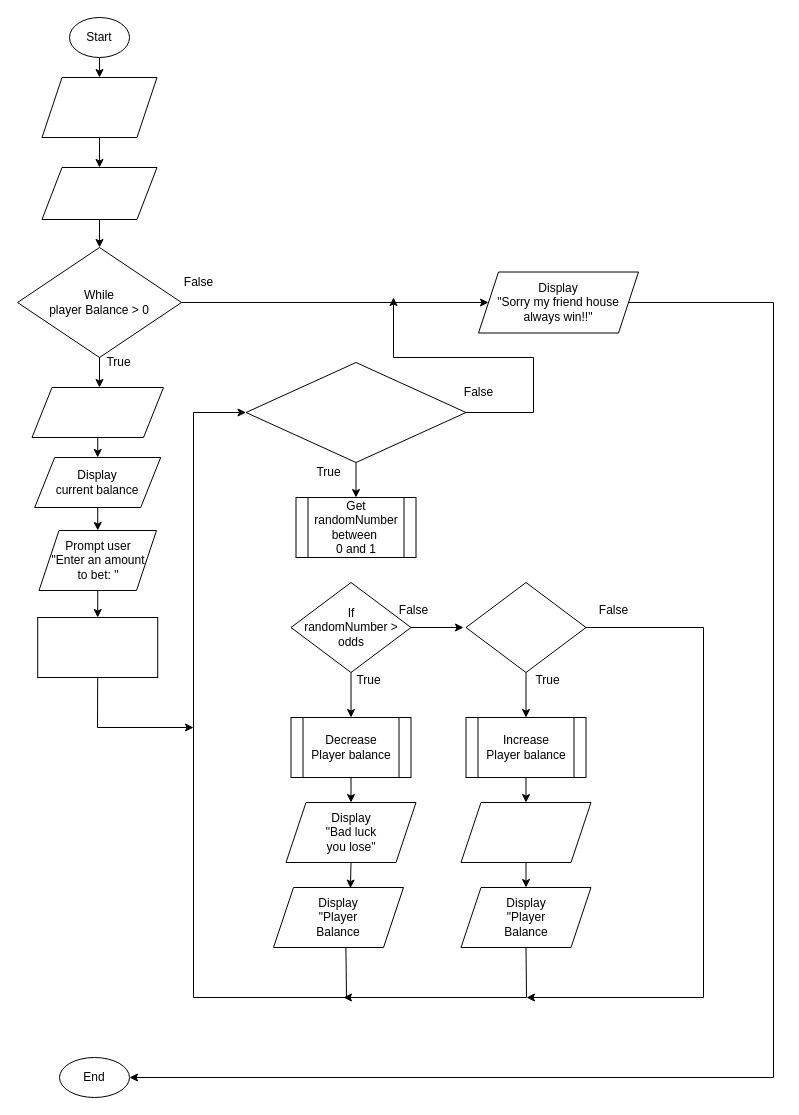
The diagram is 799 pixels wide and 1115 high, and some of its shapes have lost their labels. Here are the shapes that lost their labels. From the top down, the centre of each, then its label:
point (99, 107): Declare double odds = .75;
point (99, 193): Declare Player class
point (97, 412): Display Odds
point (355, 412): If amount <= player balance && player balance > 0
point (97, 647): Set amount = amount to bet * 2
point (525, 627): Else If randomNumber < odds
point (525, 832): Display "You win!! "
